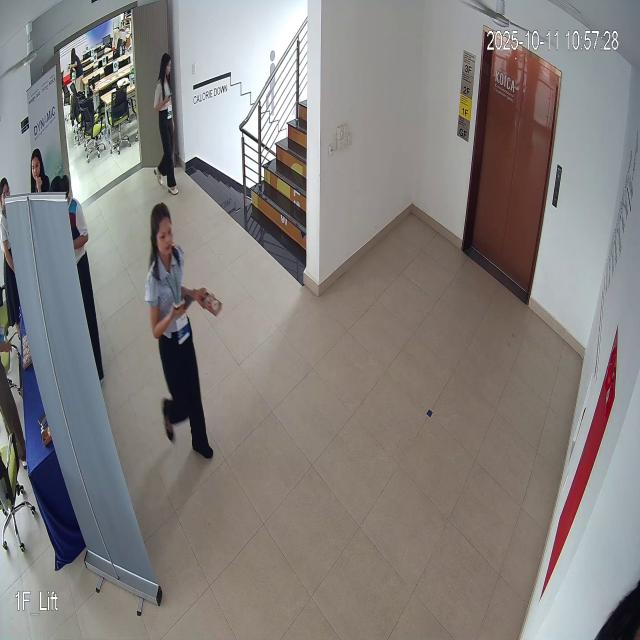face: (144, 197, 179, 270)
